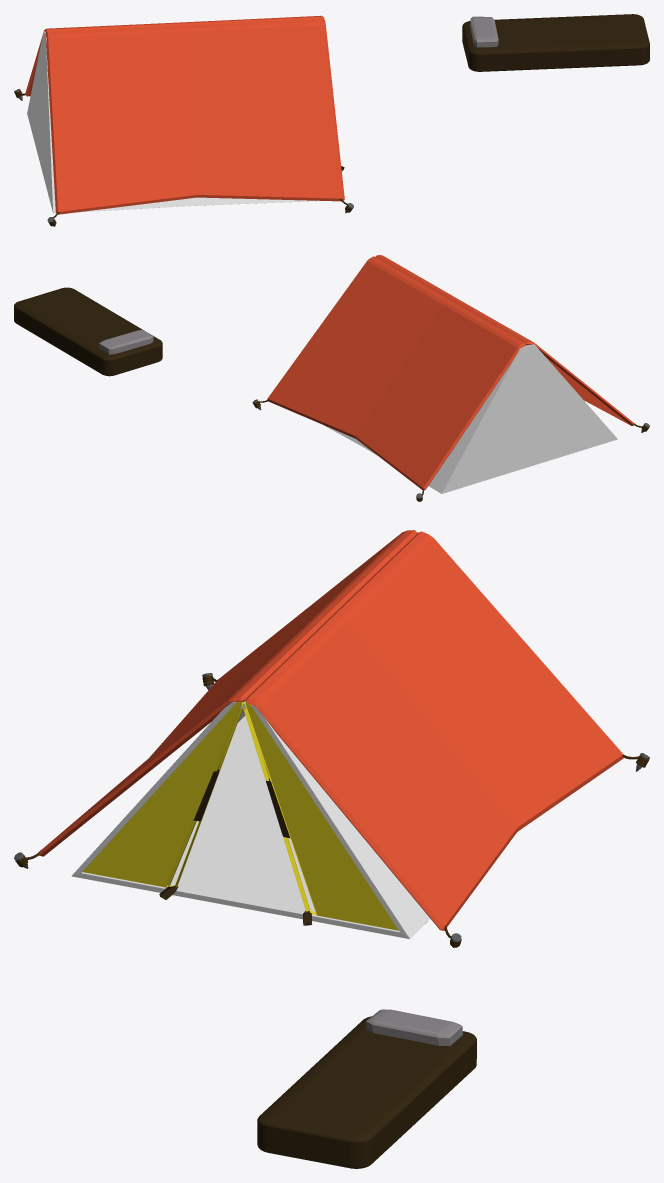
File: Tent_Bed_Separate.fbx
3 views of the same model, one above another, from view 1: azimuth 30°, elevation 25°; view 2: azimuth 150°, elevation 25°; view 3: azimuth 270°, elevation 25° (orthographic). The views are drawn at different scales.
Parts seen in each view (by area): view 1: Tent Doors.003, Bed, Pillow; view 2: Tent Doors.003, Bed, Pillow; view 3: Tent Doors.003, Bed, Pillow.
Part boxes in pixels (bbox=[...]): Tent Doors.003: bbox=[14, 15, 353, 226]; Bed: bbox=[462, 14, 649, 71]; Pillow: bbox=[470, 16, 498, 47]; Tent Doors.003: bbox=[252, 255, 649, 501]; Bed: bbox=[14, 287, 162, 376]; Pillow: bbox=[99, 330, 153, 354]; Tent Doors.003: bbox=[14, 530, 649, 947]; Bed: bbox=[257, 1016, 476, 1168]; Pillow: bbox=[366, 1009, 462, 1045].
Size of the model in its own units: 1040 by 206 by 573.
8 materials, 4 textured.
